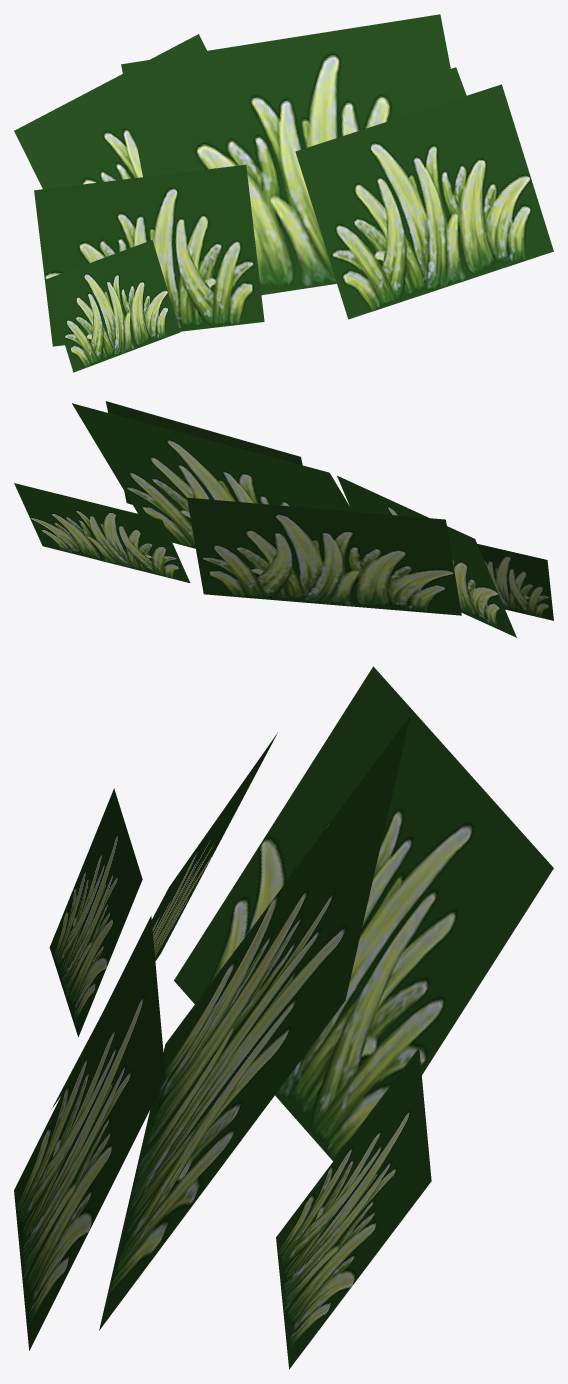
Rendered from Stage_BingYuan_ZhiWu01.FBX.
3 views of the same model, one above another, from view 1: azimuth 30°, elevation 25°; view 2: azimuth 150°, elevation 25°; view 3: azimuth 270°, elevation 25° (orthographic). The views are drawn at different scales.
Parts seen in each view (by area): view 1: Stage_BingYuan_ZhiWu01; view 2: Stage_BingYuan_ZhiWu01; view 3: Stage_BingYuan_ZhiWu01.
Boxes of the visible parts, bbox=[...] form: Stage_BingYuan_ZhiWu01: bbox=[14, 14, 553, 372]; Stage_BingYuan_ZhiWu01: bbox=[14, 401, 553, 637]; Stage_BingYuan_ZhiWu01: bbox=[14, 666, 553, 1369].
Bounding box in the file's own units: 266 × 103 × 135.
